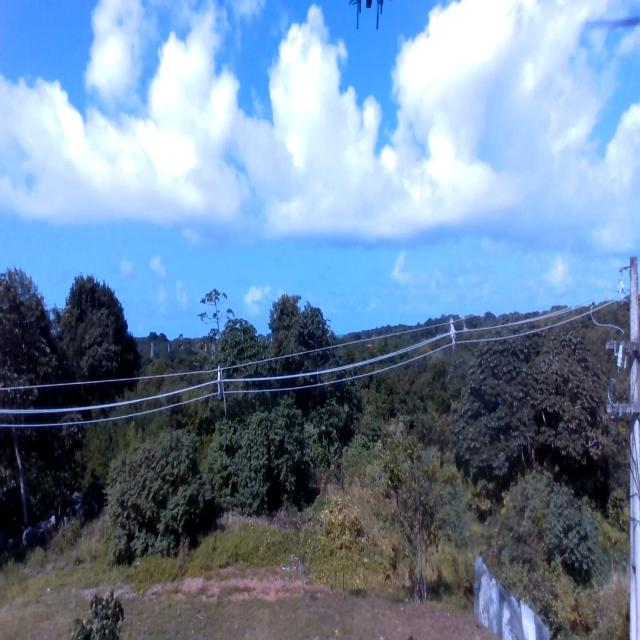-uav-: (350, 0, 385, 43)
